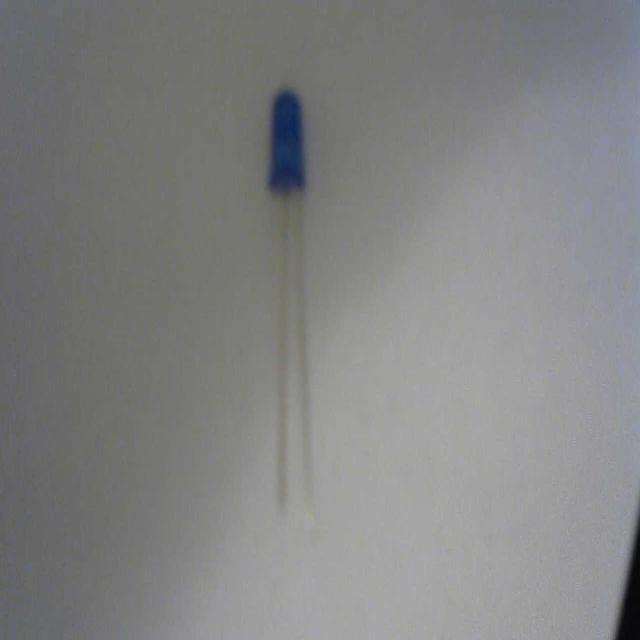blue_led: (267, 88, 305, 193)
